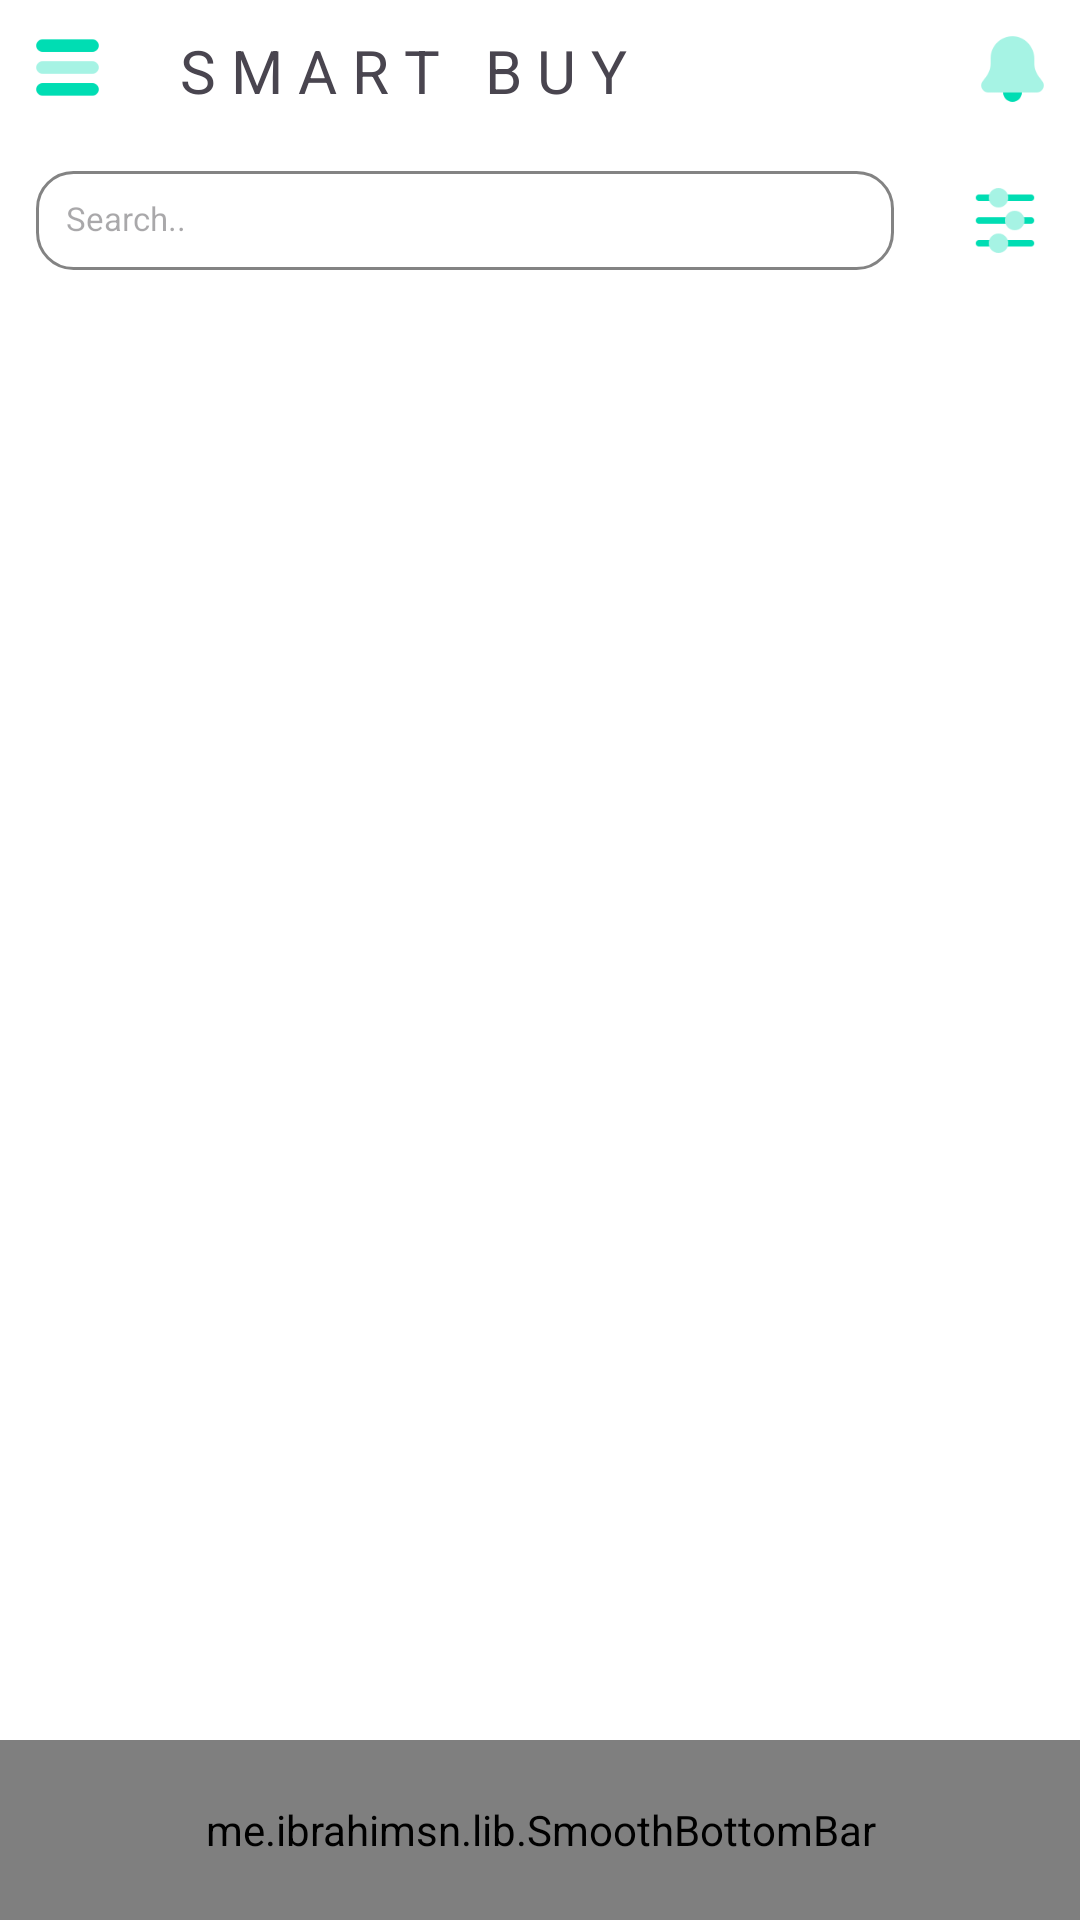

Point at icon controls on the screen. Image size 1080 x 1920, points as (x,y).
Filter Icon: (1005,220)
menu: (67,67)
notification: (1012,69)
